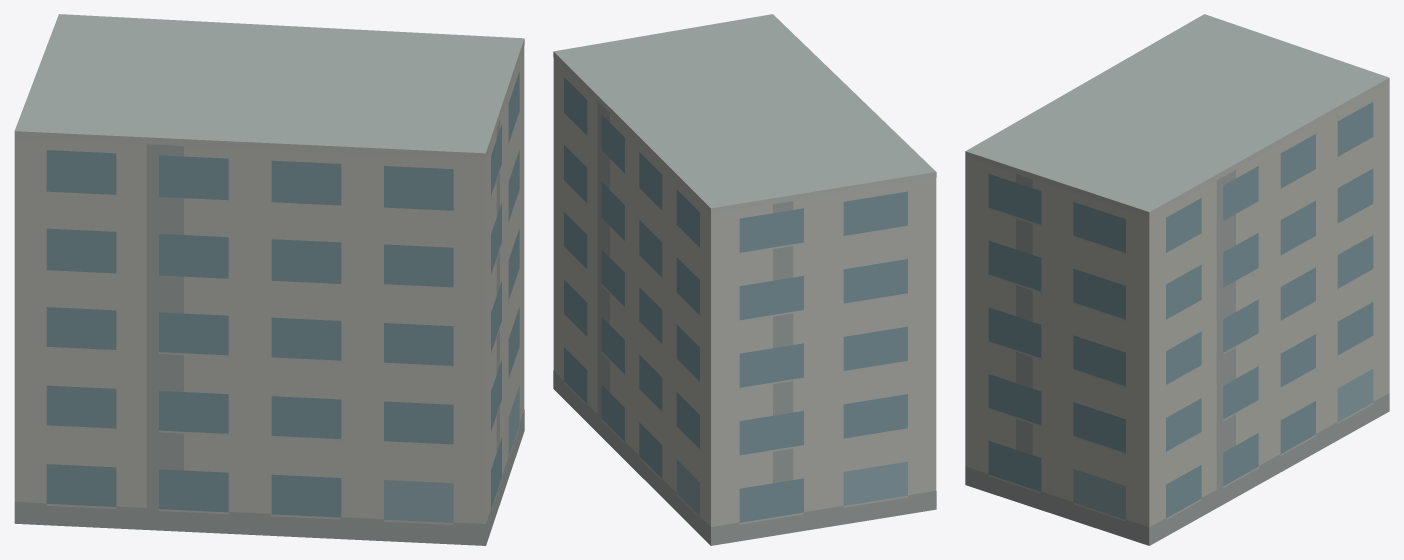
File: survey-upis-33006569.glb
3 renders of one model, left to right at view 1: azimuth 30°, elevation 25°; view 2: azimuth 150°, elevation 25°; view 3: azimuth 270°, elevation 25°, orthographic. The views are drawn at different scales.
Parts seen in each view (by area): view 1: survey-upis-33006569.tmp; view 2: survey-upis-33006569.tmp; view 3: survey-upis-33006569.tmp.
Part boxes in pixels (x1,y1,x2,y2): survey-upis-33006569.tmp: (14, 14, 524, 545); survey-upis-33006569.tmp: (553, 14, 936, 545); survey-upis-33006569.tmp: (965, 14, 1389, 545).
Bounding box in the file's own units: 17.58 × 13.8 × 15.9.
